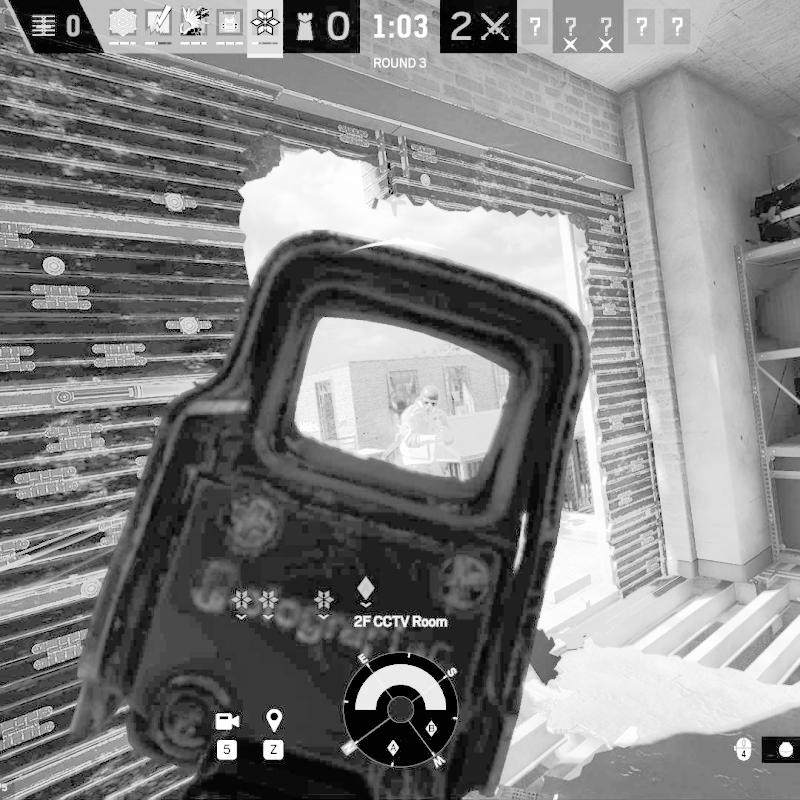Character: (398, 384, 456, 477)
Head: (419, 384, 441, 414)
